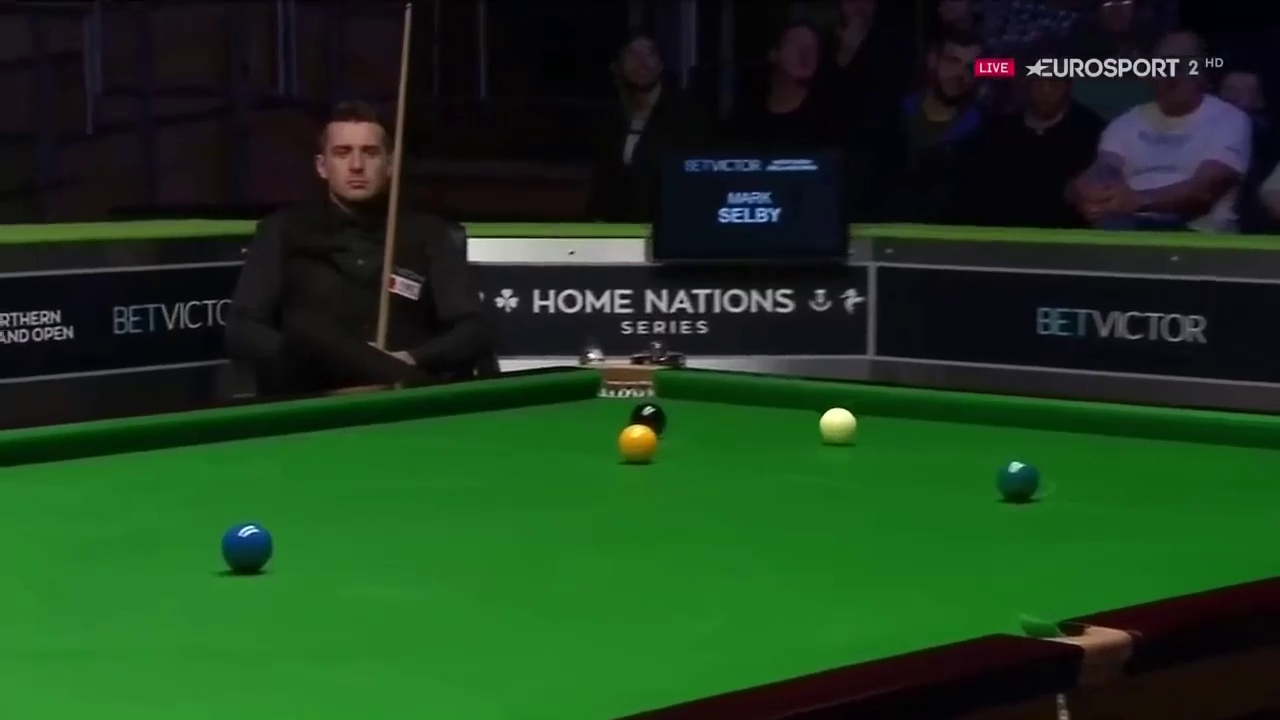blue: (221, 523, 275, 575)
green: (995, 460, 1037, 500)
white: (818, 408, 858, 442)
yellow: (617, 426, 655, 461)
